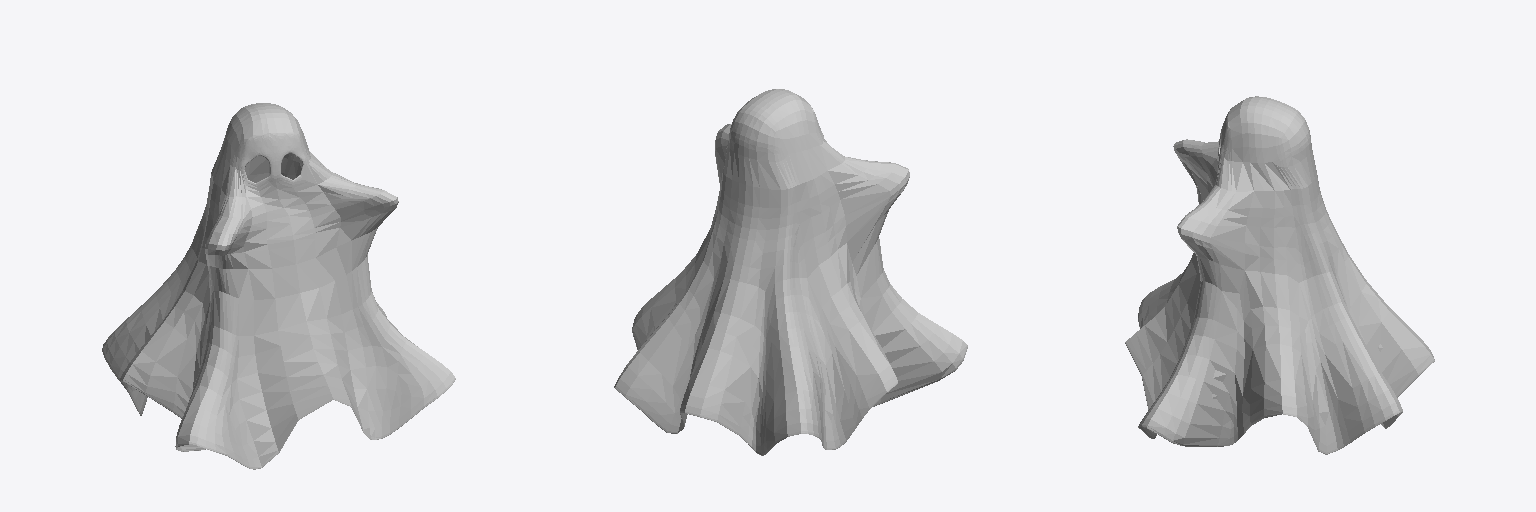
3 views of the same model, side by side, from view 1: azimuth 30°, elevation 25°; view 2: azimuth 150°, elevation 25°; view 3: azimuth 270°, elevation 25° (orthographic).
Parts seen in each view (by area): view 1: youlinguu2:Group3 walk1; view 2: youlinguu2:Group3 walk1; view 3: youlinguu2:Group3 walk1.
Boxes of the visible parts, x1,y1,x2,y2 form: youlinguu2:Group3 walk1: [102, 103, 455, 469]; youlinguu2:Group3 walk1: [614, 89, 967, 455]; youlinguu2:Group3 walk1: [1125, 96, 1434, 454].
Size of the model in its own units: 36.41 by 39.26 by 35.7.